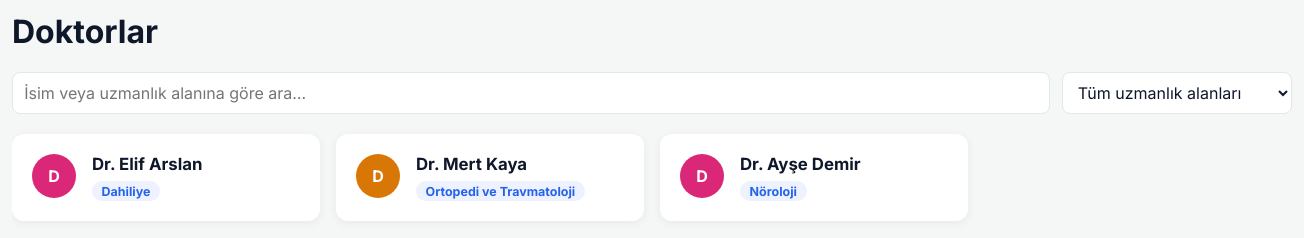
Test: DoctorsListPage › filters by the selected specialty
expect the heading "Dr. Elif Arslan" is shown: met, box [92,154,202,174]
Select "Nöroloji" in the dropdown named "Uzmanlık alanına göre filtrele" at (1177,93), box [1062,72,1292,114]
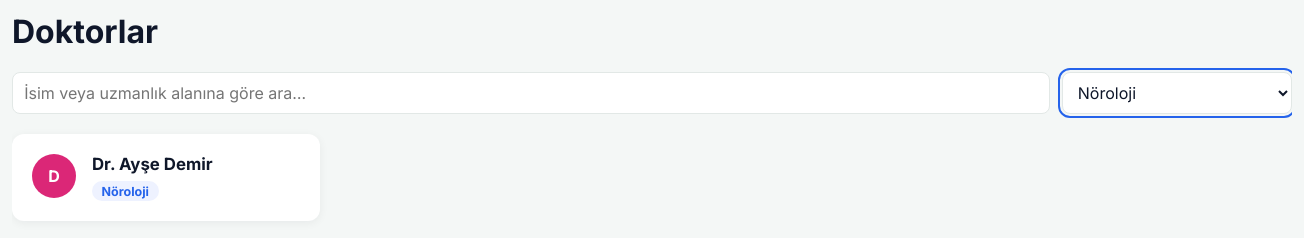
expect the heading "Dr. Ayşe Demir" is shown: met, box [92,154,213,174]
expect the link "Dr. Elif Arslan" is gone: met
